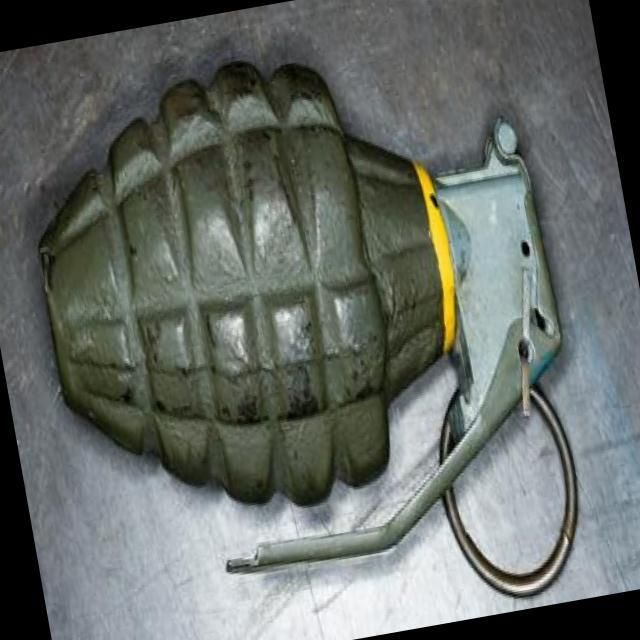grenade: (4, 7, 621, 640)
